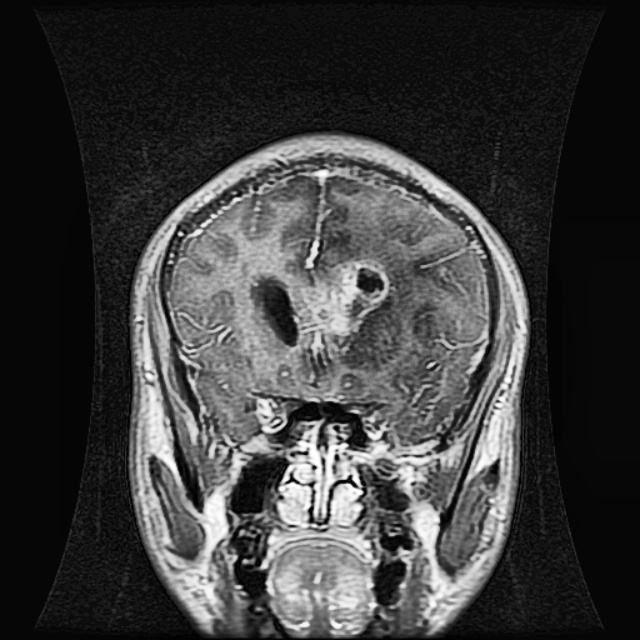Meningioma: (305, 255, 390, 348)
